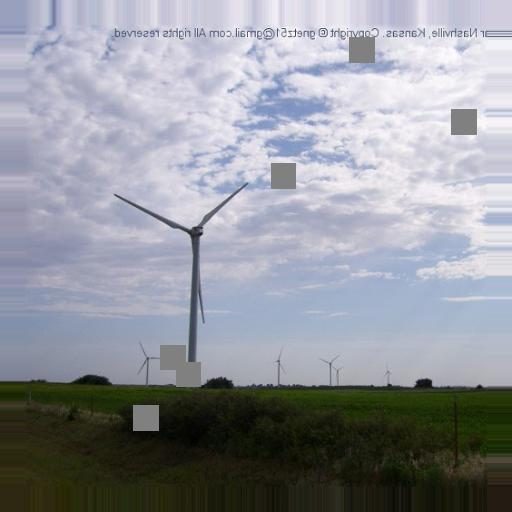wind turbine: (113, 181, 252, 381), (133, 342, 165, 387)
